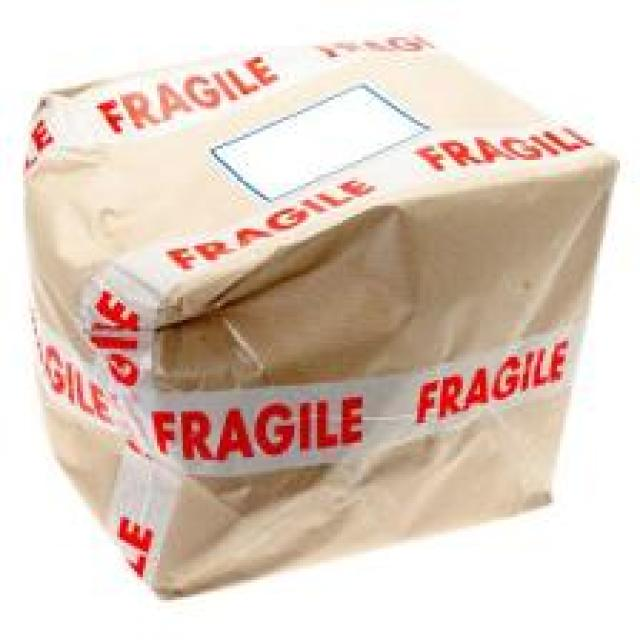box: (185, 14, 424, 338), (107, 277, 319, 615), (315, 259, 510, 608)
